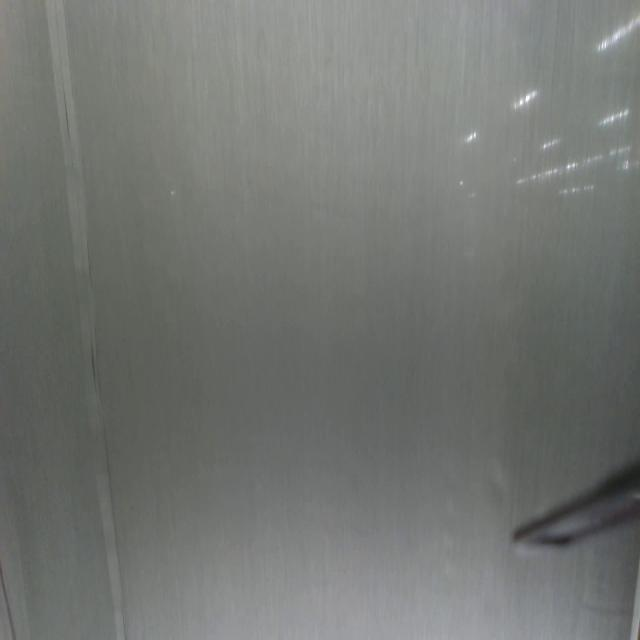crease: (46, 2, 127, 640), (1, 560, 18, 640)
